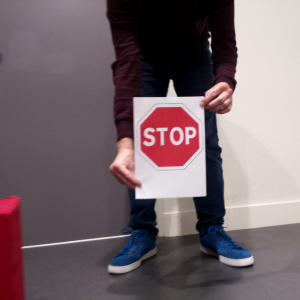stop: (137, 104, 202, 170)
